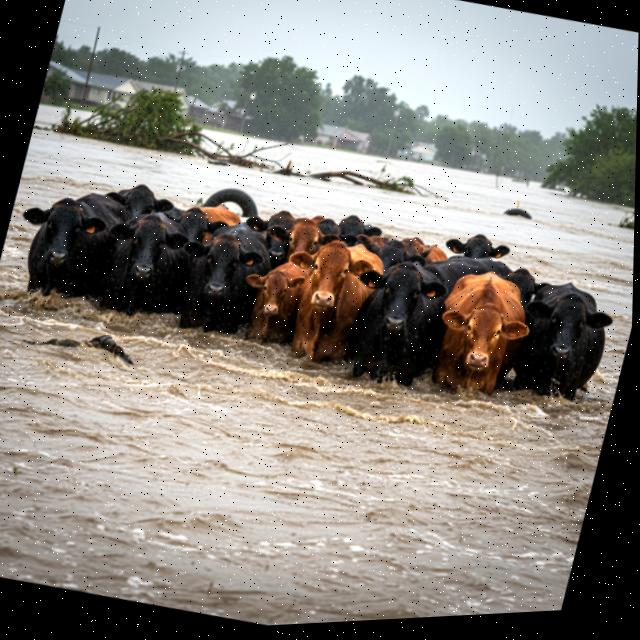cow: (328, 231, 520, 421), (418, 250, 547, 414), (264, 211, 387, 378), (3, 175, 144, 315), (503, 261, 624, 417), (156, 206, 282, 353), (87, 187, 205, 331), (230, 239, 313, 356), (155, 190, 252, 270), (347, 221, 451, 295), (261, 198, 347, 276), (237, 194, 311, 275), (487, 253, 556, 323), (99, 173, 178, 233), (317, 199, 394, 258), (441, 219, 514, 279), (309, 211, 366, 255)
